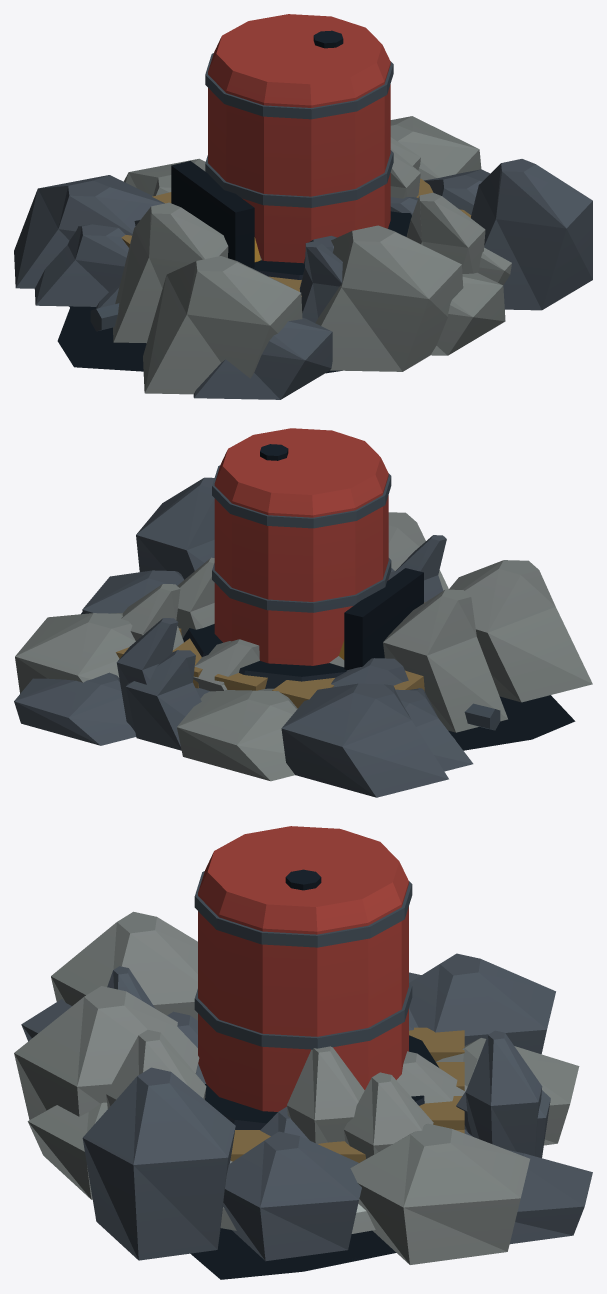
The model's file is ap_suelo_props.glb.
3 renders of one model, top to bottom at view 1: azimuth 30°, elevation 25°; view 2: azimuth 150°, elevation 25°; view 3: azimuth 270°, elevation 25°, orthographic. The views are drawn at different scales.
Parts seen in each view (by area): view 1: bidon_1__malla, cascotes_3__malla, cascotes_2__malla, cascotes_1__malla, cono_tumbado__malla, mancha_aceite__malla, neumatico_1__malla, palé__malla, señal_caida_1__malla; view 2: cascotes_2__malla, bidon_1__malla, cascotes_3__malla, cascotes_1__malla, cono_tumbado__malla, mancha_aceite__malla, palé__malla, neumatico_1__malla, señal_caida_1__malla; view 3: cascotes_2__malla, bidon_1__malla, cascotes_3__malla, cascotes_1__malla, mancha_aceite__malla, palé__malla, neumatico_1__malla, señal_caida_2__malla.
Boxes of the visible parts, bbox=[...] form: bidon_1__malla: bbox=[205, 14, 393, 263]; cascotes_3__malla: bbox=[34, 158, 592, 355]; cascotes_2__malla: bbox=[14, 116, 490, 394]; cascotes_1__malla: bbox=[96, 137, 511, 399]; cono_tumbado__malla: bbox=[171, 161, 260, 267]; mancha_aceite__malla: bbox=[57, 306, 342, 373]; neumatico_1__malla: bbox=[252, 211, 411, 279]; palé__malla: bbox=[121, 178, 471, 296]; señal_caida_1__malla: bbox=[90, 303, 119, 331]; cascotes_2__malla: bbox=[15, 557, 592, 797]; bidon_1__malla: bbox=[212, 428, 391, 665]; cascotes_3__malla: bbox=[136, 477, 507, 781]; cascotes_1__malla: bbox=[14, 512, 454, 745]; cono_tumbado__malla: bbox=[338, 568, 423, 669]; mancha_aceite__malla: bbox=[81, 612, 575, 750]; palé__malla: bbox=[116, 602, 424, 708]; neumatico_1__malla: bbox=[182, 624, 384, 688]; señal_caida_1__malla: bbox=[464, 703, 500, 730]; cascotes_2__malla: bbox=[51, 911, 555, 1264]; bidon_1__malla: bbox=[194, 826, 412, 1111]; cascotes_3__malla: bbox=[27, 966, 579, 1260]; cascotes_1__malla: bbox=[14, 986, 592, 1244]; mancha_aceite__malla: bbox=[190, 1228, 396, 1279]; palé__malla: bbox=[230, 1027, 464, 1162]; neumatico_1__malla: bbox=[205, 1035, 438, 1129]; señal_caida_2__malla: bbox=[220, 1204, 375, 1233].
Size of the model in its own units: 2.12 by 0.94 by 1.8.
11 materials, 11 textured.
